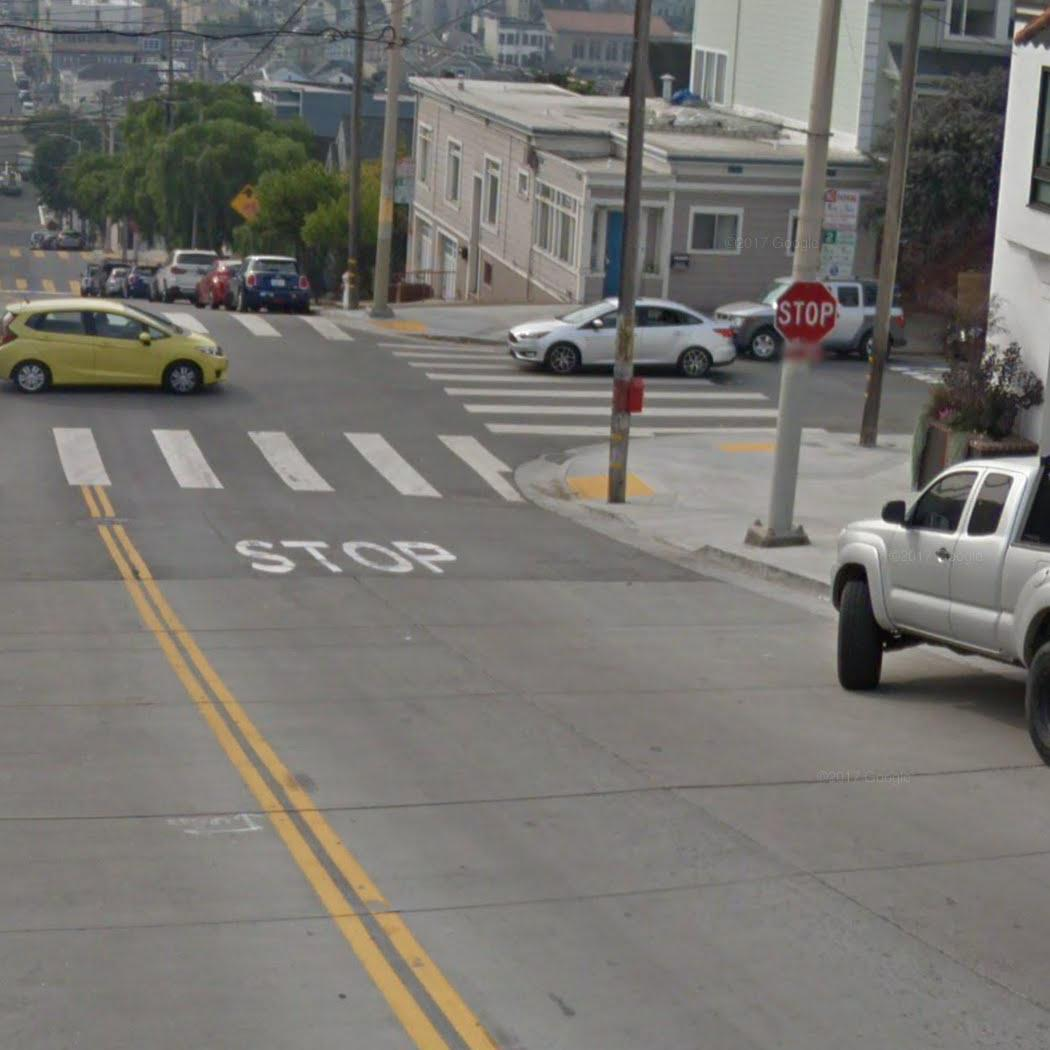2 Hour Parking: (814, 227, 860, 283)
No Parking: (826, 188, 861, 229)
